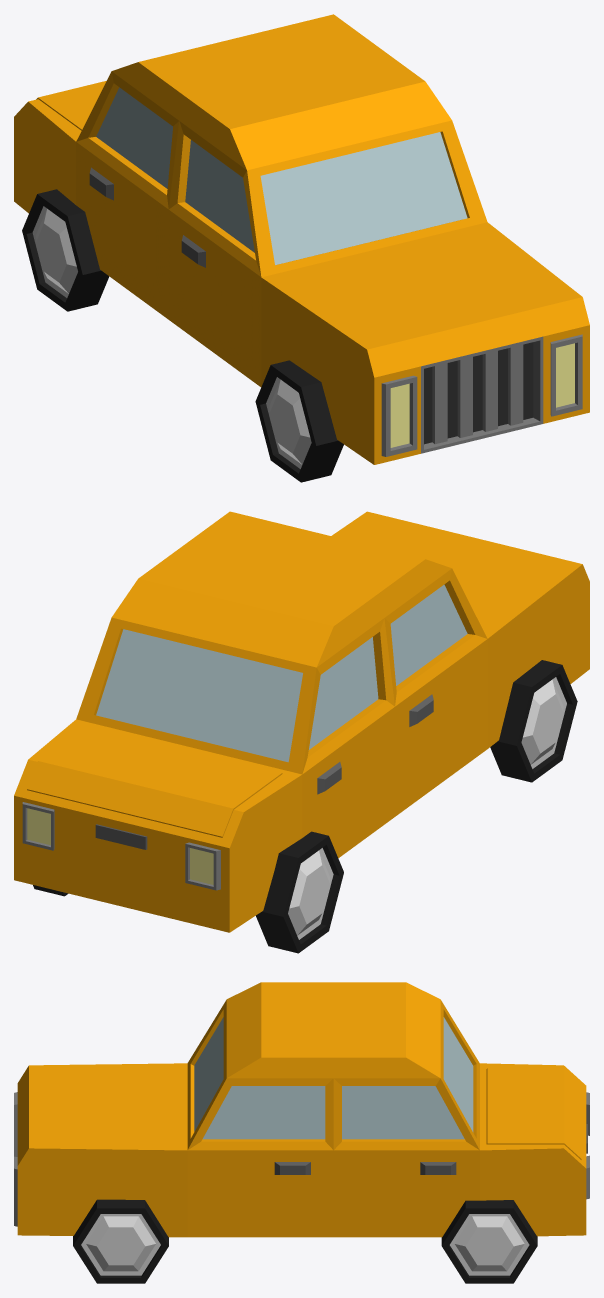
The model's file is Car.fbx.
3 renders of one model, top to bottom at view 1: azimuth 30°, elevation 25°; view 2: azimuth 150°, elevation 25°; view 3: azimuth 270°, elevation 25°, orthographic. The views are drawn at different scales.
Visible parts, largest first — view 1: Cylinder; view 2: Cylinder; view 3: Cylinder.
Part boxes in pixels (x1,y1,x2,y2): Cylinder: [14, 14, 589, 482]; Cylinder: [14, 511, 589, 953]; Cylinder: [14, 982, 589, 1283].
Bounding box in the file's own units: 378 × 366 × 900.
